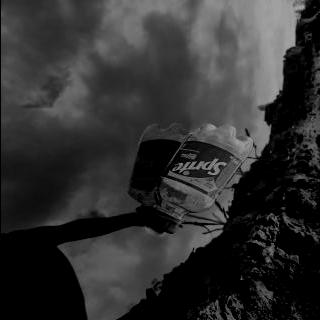bottle: (142, 121, 256, 236)
